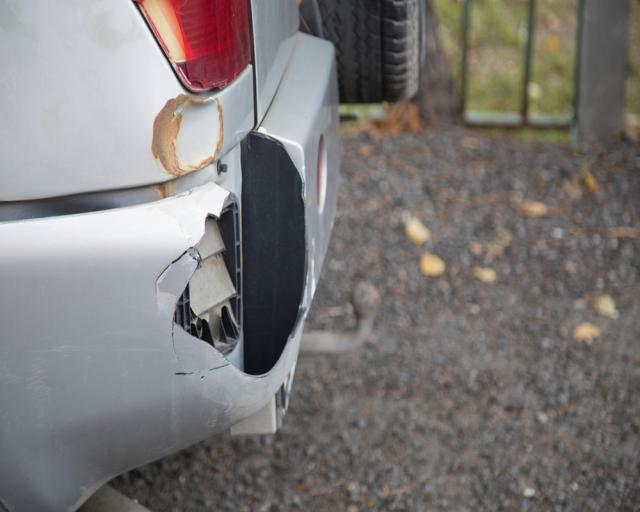crack: (155, 246, 195, 309), (171, 317, 181, 367)
dent: (169, 95, 225, 173)
lamp broken: (131, 0, 253, 92)
scratch: (173, 362, 278, 426)
